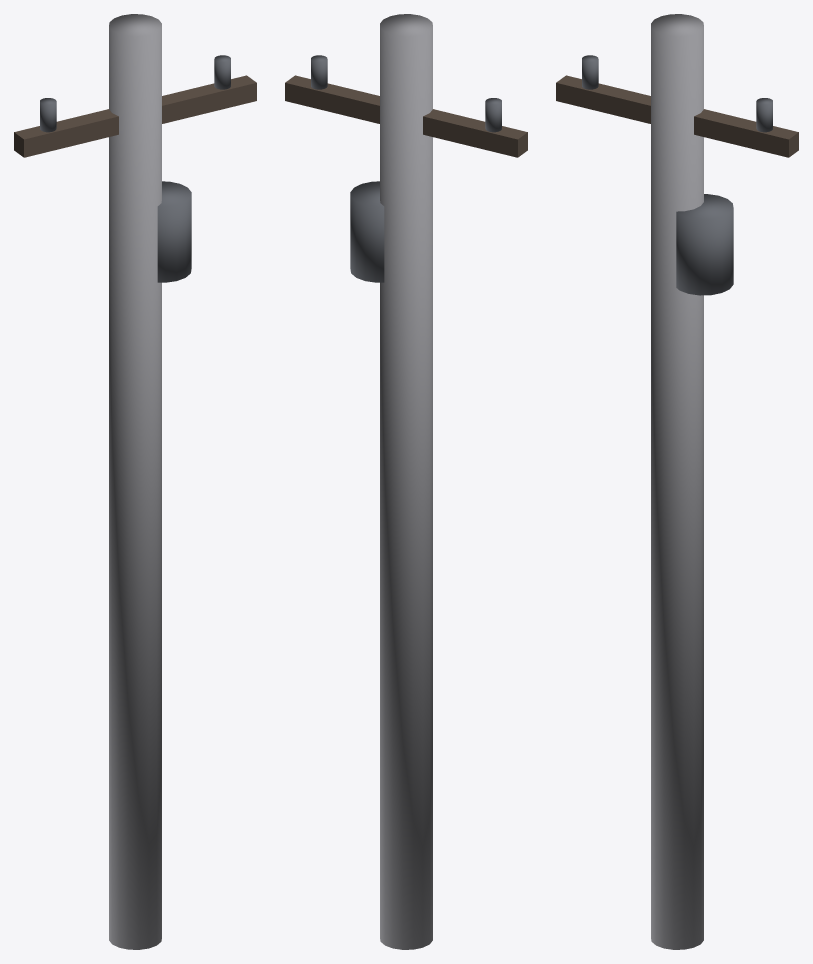
File: prop_denchu.glb
3 renders of one model, left to right at view 1: azimuth 30°, elevation 25°; view 2: azimuth 150°, elevation 25°; view 3: azimuth 330°, elevation 25°, orthographic.
Parts seen in each view (by area): view 1: denchu; view 2: denchu; view 3: denchu.
Part boxes in pixels (x1,y1,x2,y2): denchu: (14,14,256,949); denchu: (285,14,527,949); denchu: (556,14,798,949).
Bounding box in the file's own units: 1.6 × 6 × 0.36.
